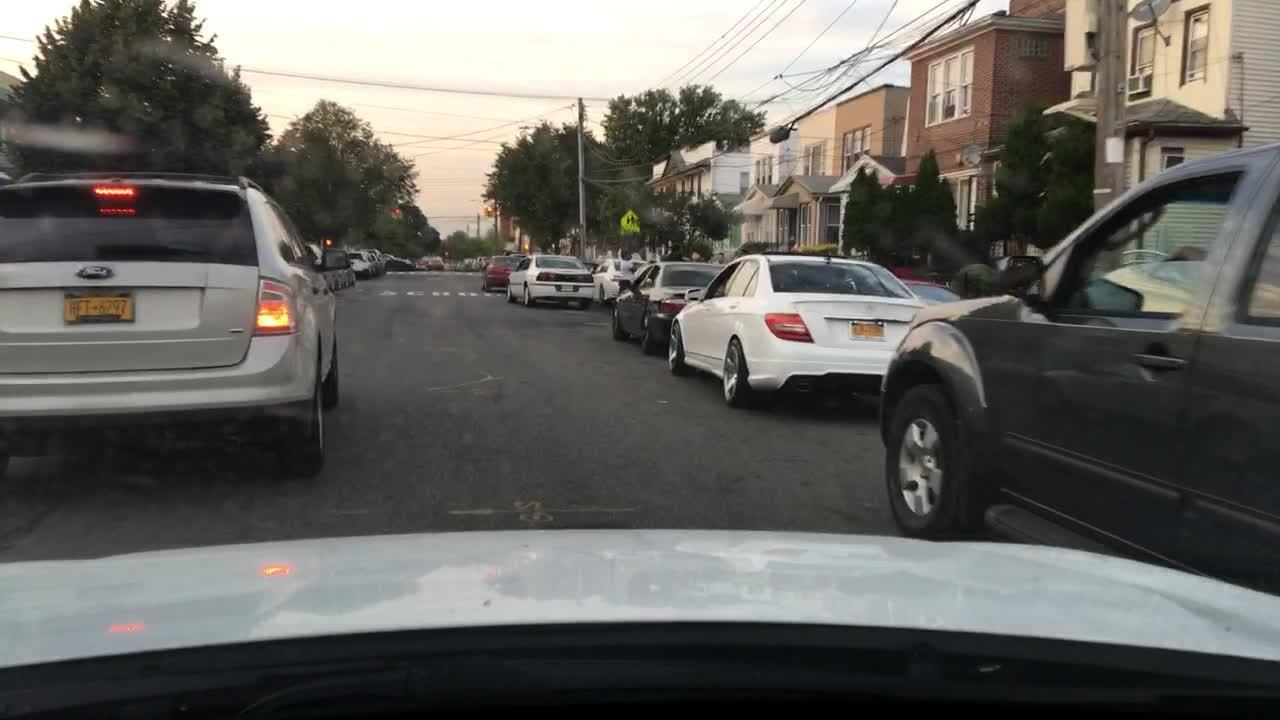ford: (73, 261, 128, 284)
